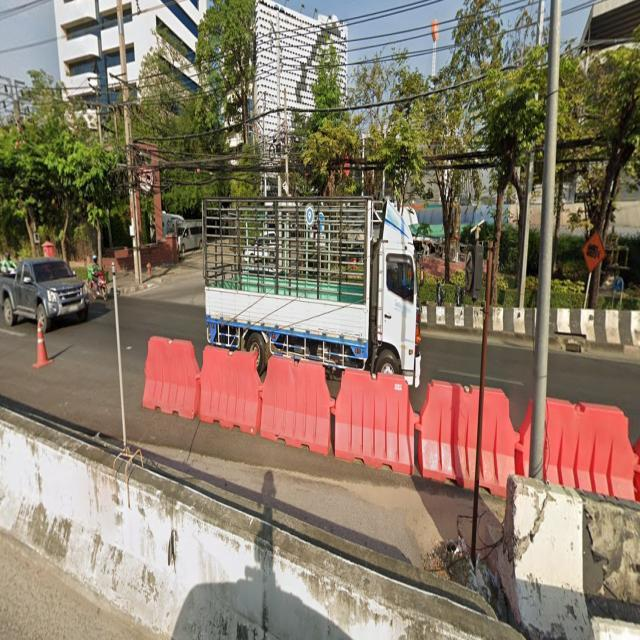fallen_object: (89, 327, 256, 437), (407, 376, 526, 499), (529, 393, 640, 514), (326, 362, 421, 483), (249, 339, 339, 461), (27, 309, 56, 380)
